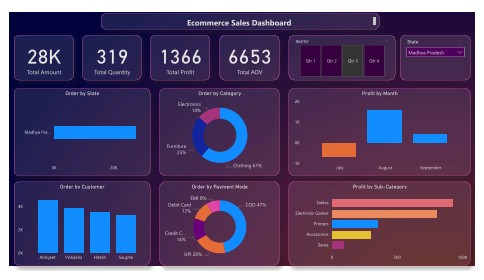

The dashboard page shown, as its layout file describes it:
{"tool":"powerbi","page":{"name":"Page 1","canvas":[1280,720],"ordinal":0},"visuals":[{"type":"textbox","box":[253,12,764,45],"z":0},{"type":"columnChart","title":"Profit by Month","fields":{"Y":["Sum(Details.Profit)"],"Category":["Orders.Order Date.Variation.Date Hierarchy.Month"]},"box":[768,218,498,240],"z":1000},{"type":"barChart","title":"Profit by Sub-Category","fields":{"Category":["Details.Sub-Category"],"Y":["Sum(Details.Profit)"]},"box":[768,474,498,230],"z":2000},{"type":"donutChart","title":"Order by Category","fields":{"Category":["Details.Category"],"Y":["Sum(Details.Quantity)"]},"box":[414,218,328,240],"z":3000},{"type":"donutChart","title":"Order by Payment Mode","fields":{"Category":["Details.PaymentMode","Details.Category"],"Y":["Sum(Details.Quantity)"]},"box":[414,474,328,230],"z":4000},{"type":"card","fields":{"Values":["Sum(Details.Amount)"]},"box":[14,72,164,124],"z":5000},{"type":"card","fields":{"Values":["Sum(Details.Quantity)"]},"box":[202,72,162,124],"z":6000},{"type":"card","fields":{"Values":["Sum(Details.Profit)"]},"box":[388,72,164,124],"z":7000},{"type":"card","fields":{"Values":["Sum(Details.AOV)"]},"box":[578,72,164,124],"z":8000},{"type":"barChart","title":"Order by State","fields":{"Category":["Orders.State"],"Y":["Sum(Details.Amount)"]},"box":[14,218,374,240],"z":9000},{"type":"columnChart","title":"Order by Customer","fields":{"Category":["Orders.CustomerName"],"Y":["Sum(Details.Amount)"]},"box":[14,474,374,230],"z":10000},{"type":"slicer","fields":{"Values":["Orders.Order Date.Variation.Date Hierarchy.Quarter"]},"box":[768,72,292,124],"z":11000},{"type":"slicer","fields":{"Values":["Orders.State"]},"box":[1074,72,192,124],"z":12000}]}

Visuals, with their boxes in screenshot pixels (x1, y1, x2, y2), scaled from the page's 1280x720 canvas onto the 484x280 screenshot:
textbox: <region>96, 5, 385, 22</region>
"Profit by Month" columnChart: <region>290, 85, 479, 178</region>
"Profit by Sub-Category" barChart: <region>290, 184, 479, 274</region>
"Order by Category" donutChart: <region>157, 85, 281, 178</region>
"Order by Payment Mode" donutChart: <region>157, 184, 281, 274</region>
card - Sum(Details.Amount): <region>5, 28, 67, 76</region>
card - Sum(Details.Quantity): <region>76, 28, 138, 76</region>
card - Sum(Details.Profit): <region>147, 28, 209, 76</region>
card - Sum(Details.AOV): <region>219, 28, 281, 76</region>
"Order by State" barChart: <region>5, 85, 147, 178</region>
"Order by Customer" columnChart: <region>5, 184, 147, 274</region>
slicer - Orders.Order Date.Variation.Date Hierarchy.Quarter: <region>290, 28, 401, 76</region>
slicer - Orders.State: <region>406, 28, 479, 76</region>
